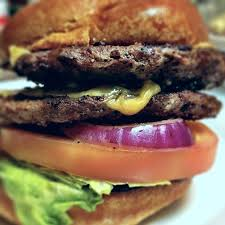hamburger: (1, 1, 223, 179)
